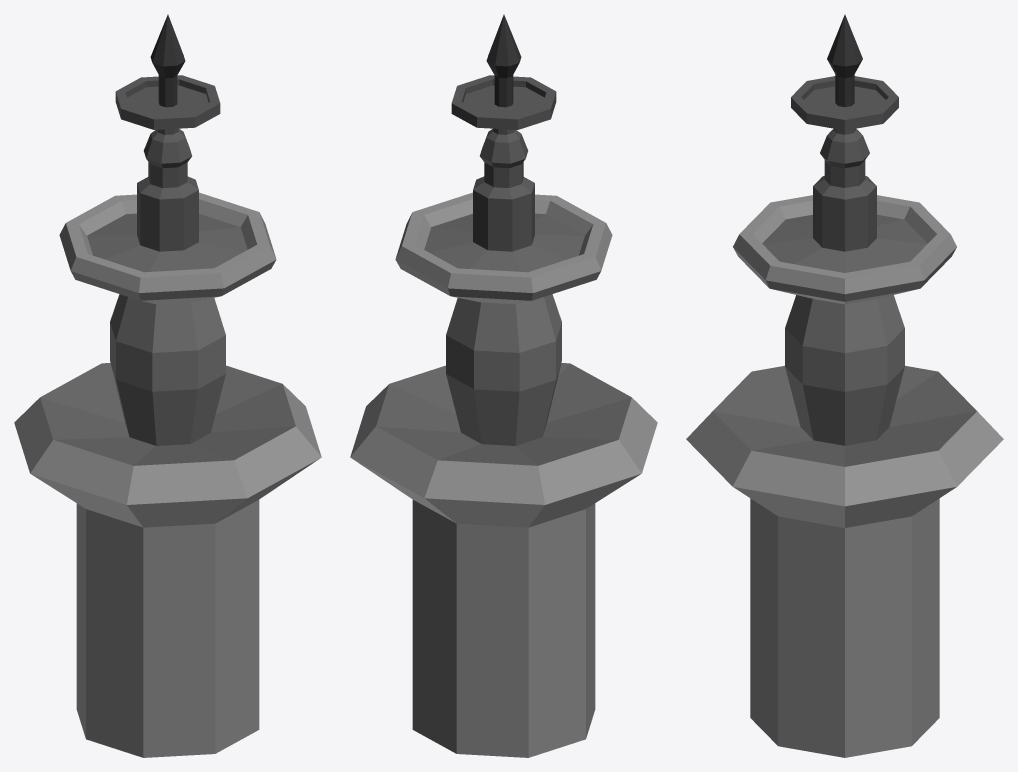
Rendered from fontein.fbx.
The picture shows the model from 3 angles, left to right: view 1: azimuth 30°, elevation 25°; view 2: azimuth 150°, elevation 25°; view 3: azimuth 270°, elevation 25°; orthographic projection.
Visible parts, largest first — view 1: pCylinder49; view 2: pCylinder49; view 3: pCylinder49.
Boxes of the visible parts, x1,y1,x2,y2 form: pCylinder49: (14,14,321,757); pCylinder49: (350,14,657,757); pCylinder49: (686,14,1003,757).
Size of the model in its own units: 11.03 by 26.96 by 11.03.
Materials: 1 (1 with a texture image).
